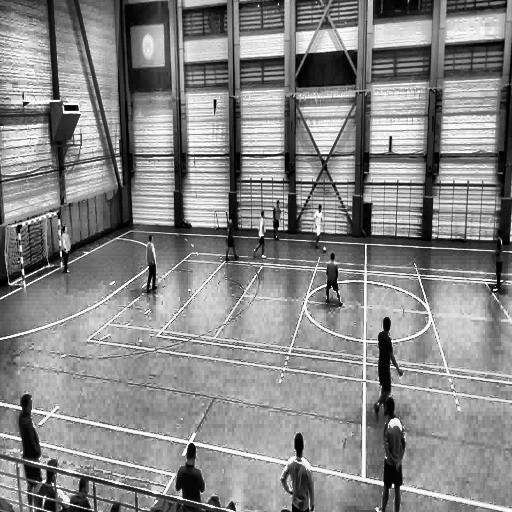ball: (322, 245, 326, 254)
player: (375, 395, 402, 512), (19, 397, 42, 512), (373, 319, 400, 416), (282, 431, 314, 512), (490, 228, 504, 290), (326, 253, 342, 305), (225, 214, 238, 260), (146, 235, 156, 292), (254, 211, 266, 258), (61, 225, 71, 274), (312, 204, 323, 248), (273, 200, 281, 240)
